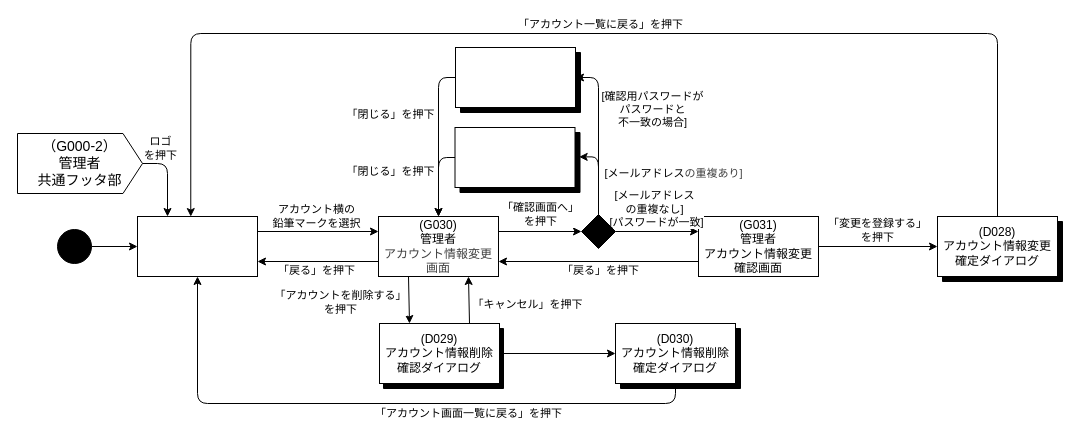
This 1080x436 diagram has some shape labels left out. The centre of each missing label's shape, as x and y in pixels:
"(D026) パスワード不一致 ダイアログ" goes at [515,77].
"(D027) メールアドレス重複 ダイアログ" goes at [514,157].
"(G029) アカウント一覧画面" goes at [197,246].
